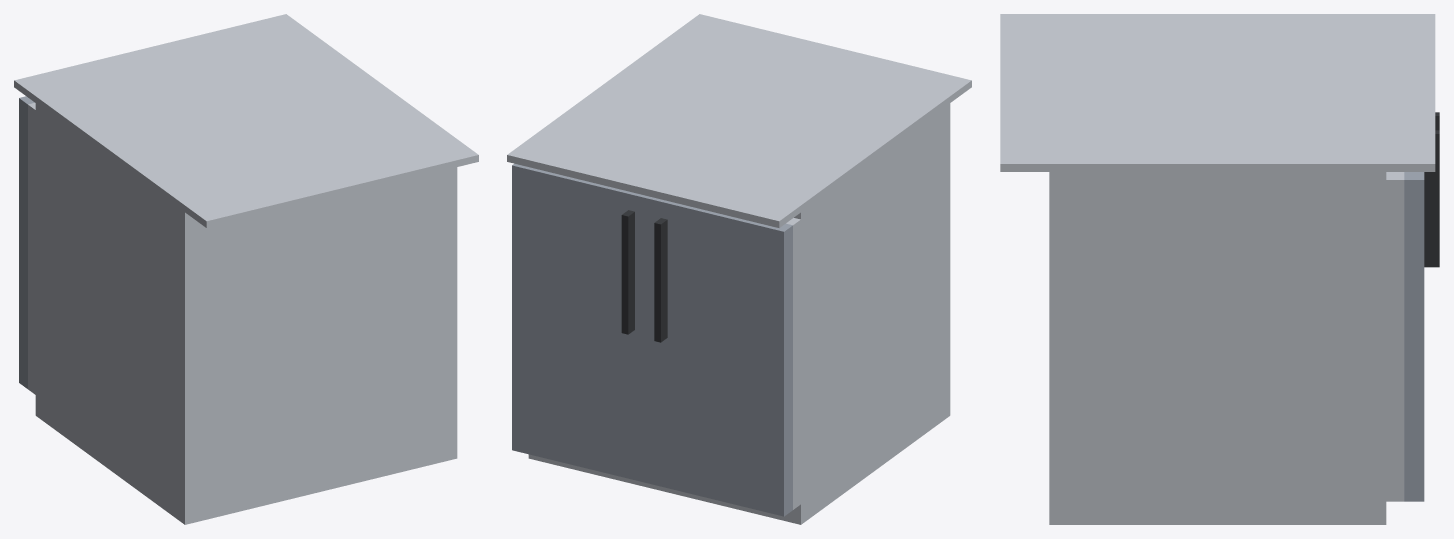
The model's file is lab-counter.glb.
3 renders of one model, left to right at view 1: azimuth 30°, elevation 25°; view 2: azimuth 150°, elevation 25°; view 3: azimuth 270°, elevation 25°, orthographic. The views are drawn at different scales.
Parts seen in each view (by area): view 1: counter_counter; view 2: counter_counter; view 3: counter_counter.
Part boxes in pixels (left/top/right/bottom): counter_counter: left=14, top=14, right=478, bottom=524; counter_counter: left=507, top=14, right=971, bottom=524; counter_counter: left=1000, top=14, right=1439, bottom=524.
Bounding box in the file's own units: 62.03 × 69.58 × 76.73.
Materials: 1 (1 with a texture image).
